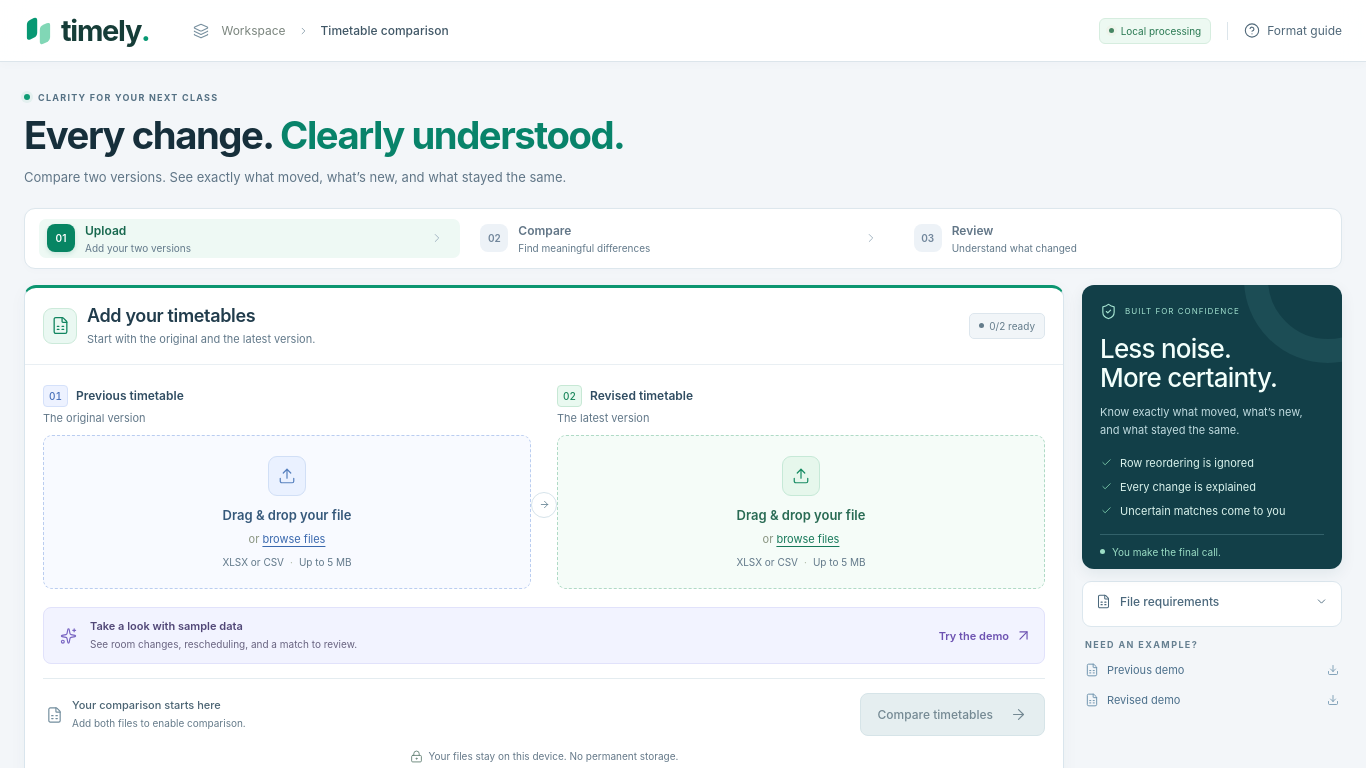
Timely user flows › keeps a rejected match separate with correct totals
Click the button "Try the demo". click: (985, 636)
box: [939, 620, 1032, 652]
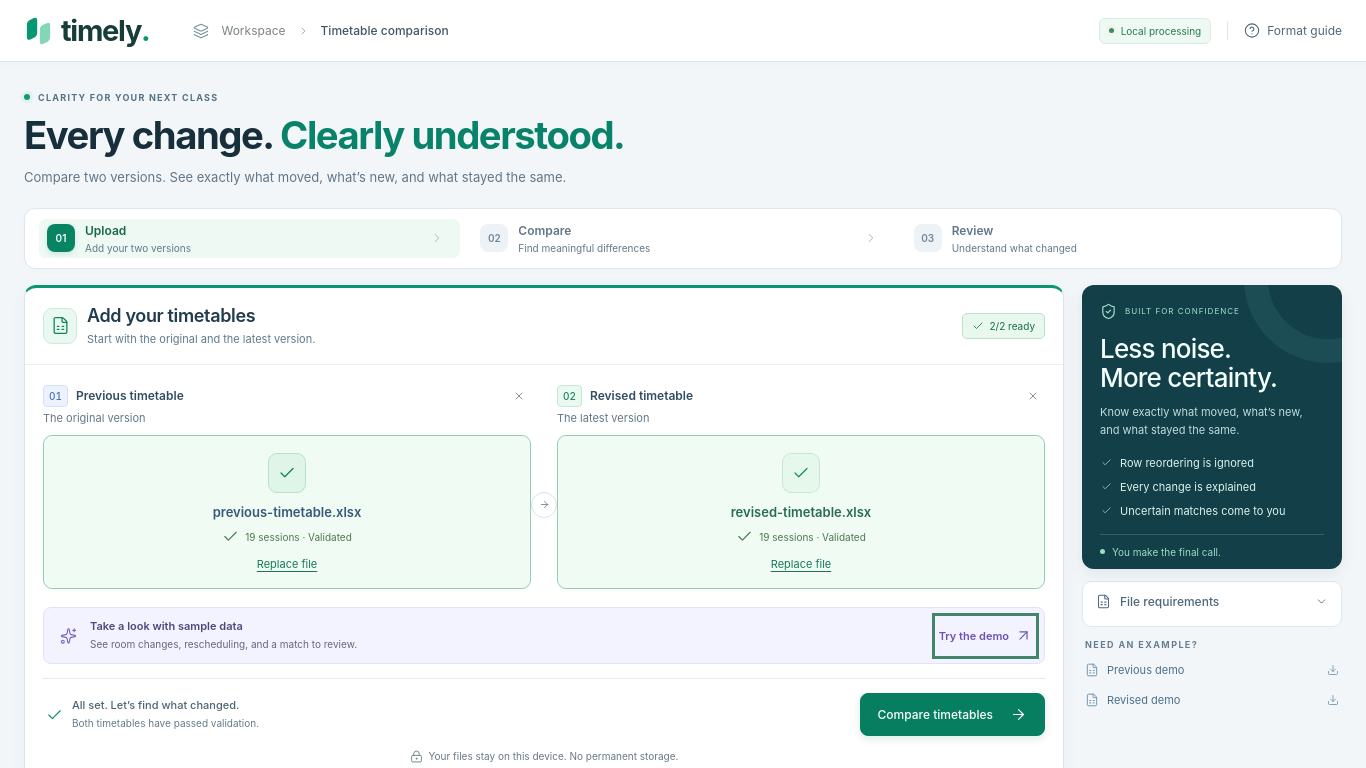
Click the button "Compare timetables". click: (952, 714)
box: [860, 693, 1045, 736]
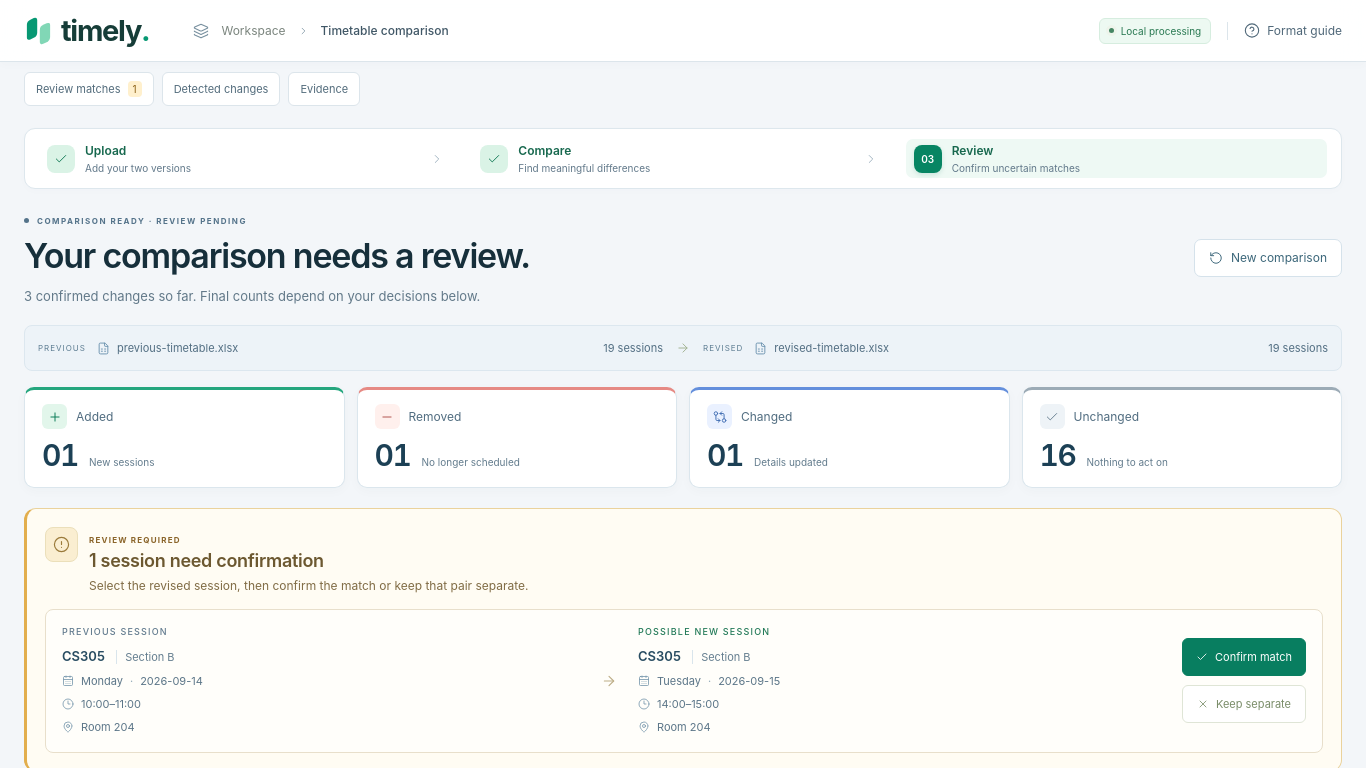
Check: the heading "Your comparison needs a review." is shown, box [24, 235, 530, 277]
Click the button "Keep separate". click: (1244, 704)
box: [1182, 685, 1306, 723]
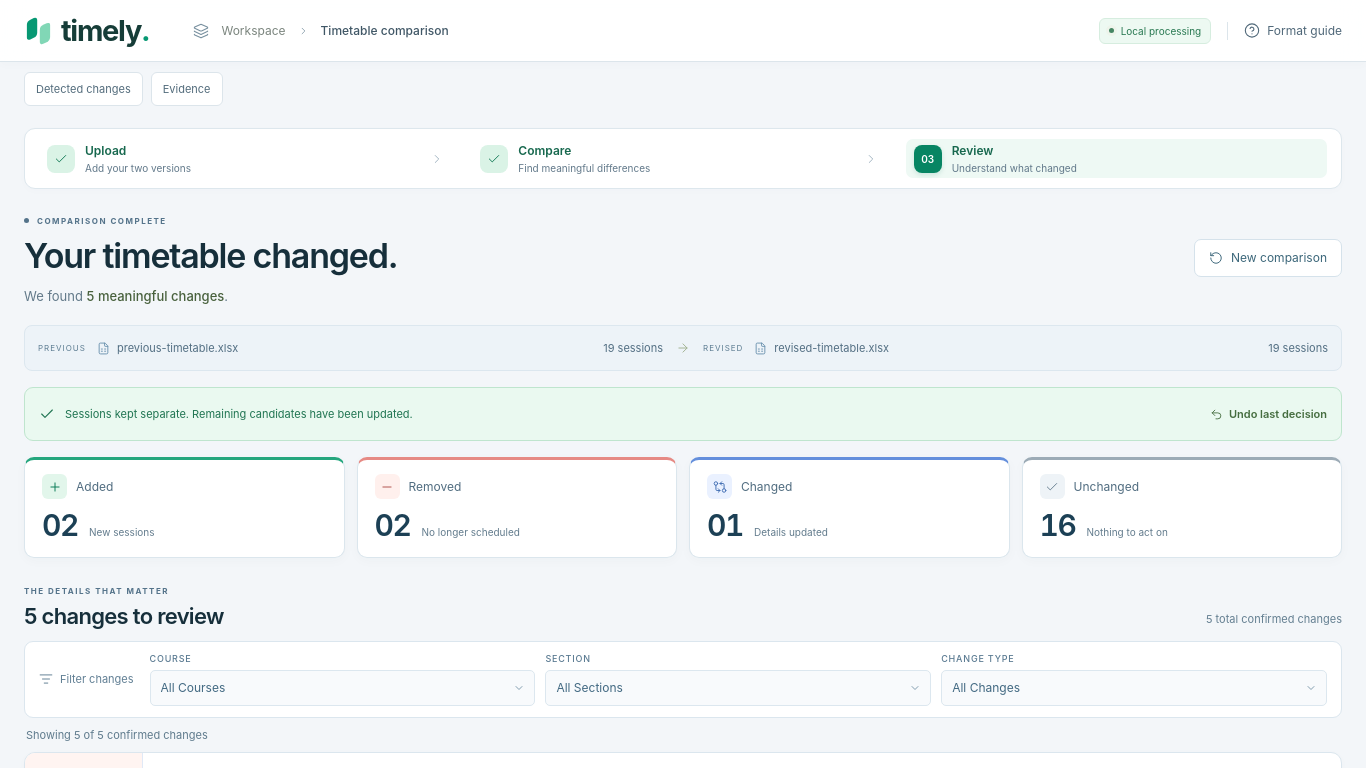
Check: the element named "1 Changed" is shown, box [689, 457, 1010, 558]
Check: the element named "2 Added" is shown, box [24, 457, 344, 558]
Check: the element named "2 Removed" is shown, box [356, 457, 677, 558]
